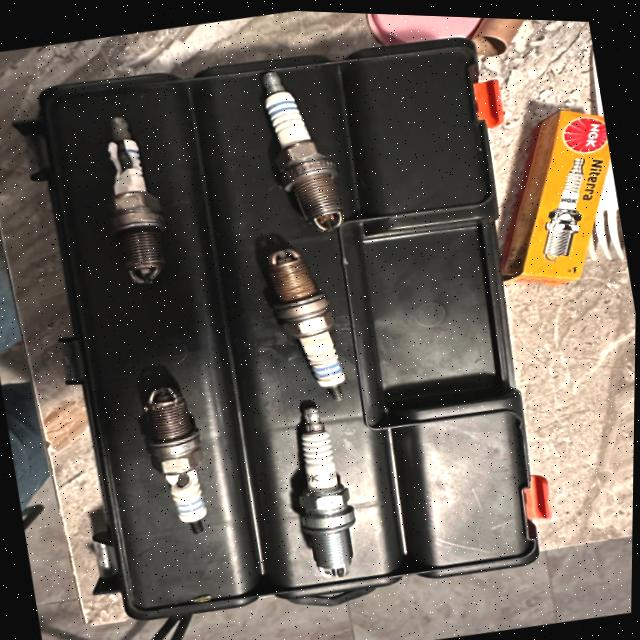damaged_spark-plug: (135, 377, 221, 540), (95, 110, 169, 291)
spark-plug: (248, 55, 356, 238), (256, 240, 365, 409), (278, 401, 363, 581)
